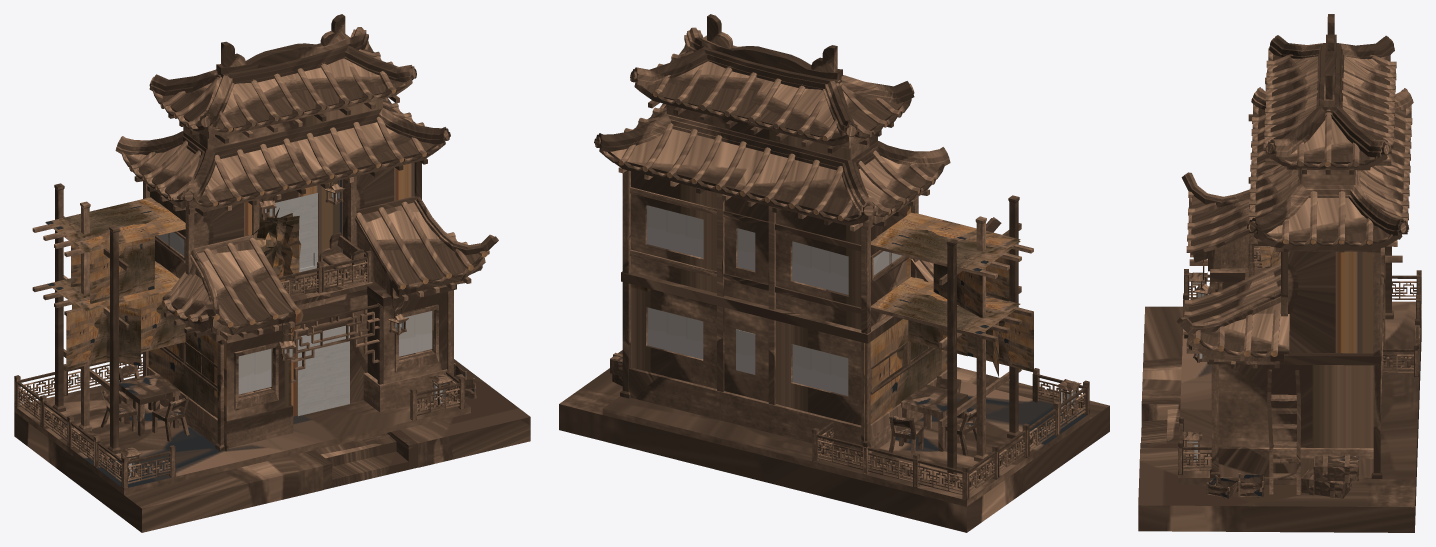
File: TraditionalHouse.fbx
3 views of the same model, side by side, from view 1: azimuth 30°, elevation 25°; view 2: azimuth 150°, elevation 25°; view 3: azimuth 270°, elevation 25° (orthographic). The views are drawn at different scales.
Visible parts, largest first — view 1: Windows_Windows_0; view 2: Windows_Windows_0; view 3: Windows_Windows_0.
Boxes of the visible parts, x1,y1,x2,y2 form: Windows_Windows_0: (14, 14, 530, 532); Windows_Windows_0: (559, 14, 1109, 532); Windows_Windows_0: (1138, 14, 1421, 532).
Size of the model in its own units: 698 by 655 by 415.
